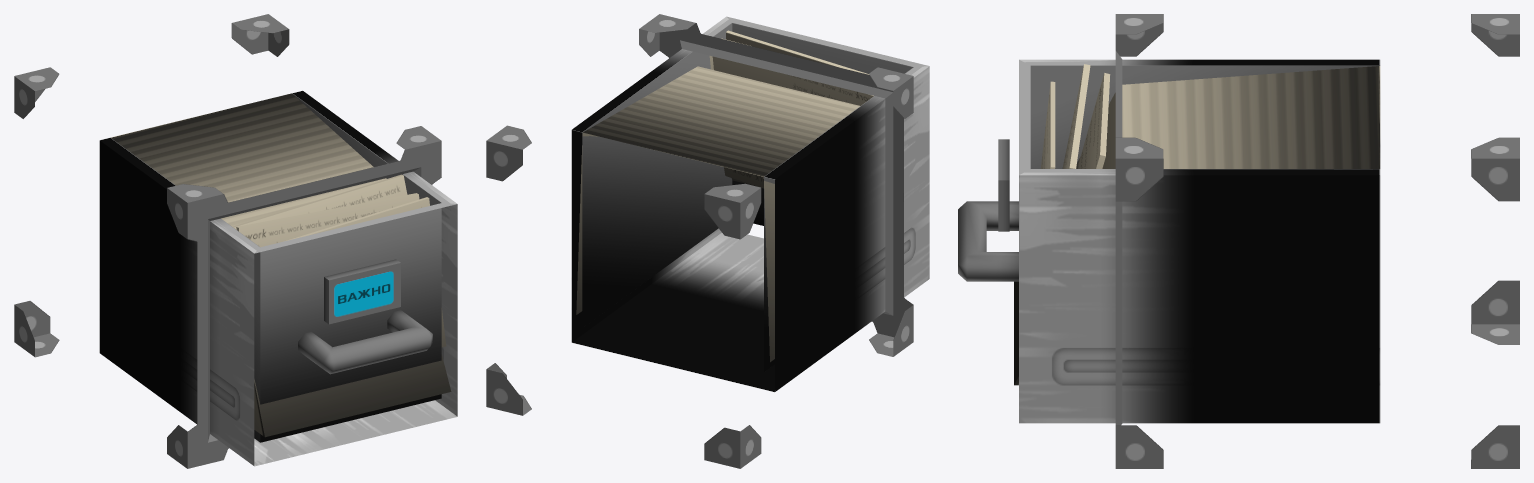
Rendered from obj_interactive_filecabinet_open.fbx.
3 views of the same model, side by side, from view 1: azimuth 30°, elevation 25°; view 2: azimuth 150°, elevation 25°; view 3: azimuth 270°, elevation 25° (orthographic). The views are drawn at different scales.
Visible parts, largest first — view 1: obj_interactive_filecabinet_open_lod0; view 2: obj_interactive_filecabinet_open_lod0; view 3: obj_interactive_filecabinet_open_lod0.
Part boxes in pixels (x1,y1,x2,y2): obj_interactive_filecabinet_open_lod0: (14,14,457,468); obj_interactive_filecabinet_open_lod0: (486,14,929,468); obj_interactive_filecabinet_open_lod0: (958,14,1519,468).
Bounding box in the file's own units: 2 × 2 × 3.28.
Materials: 1 (1 with a texture image).
